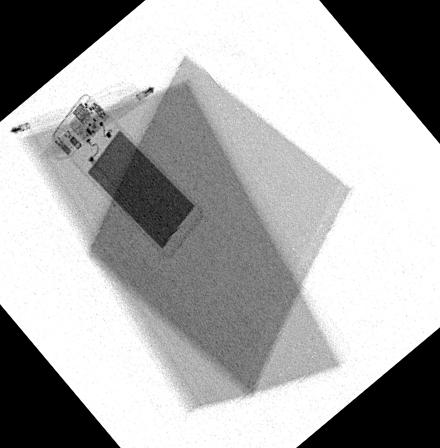Powerbank: (49, 92, 205, 260)
